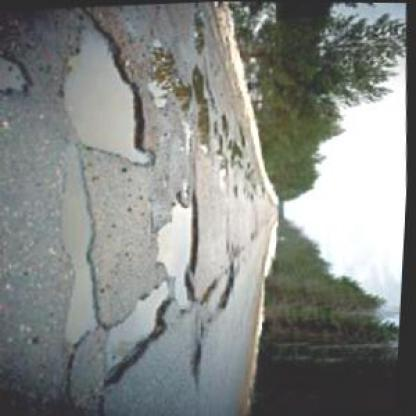pothole: (49, 4, 166, 172), (47, 144, 115, 348), (100, 276, 179, 388), (148, 190, 204, 313), (143, 37, 197, 114), (197, 259, 243, 322), (190, 64, 219, 155), (0, 52, 37, 97), (188, 338, 210, 380), (192, 8, 210, 54)
